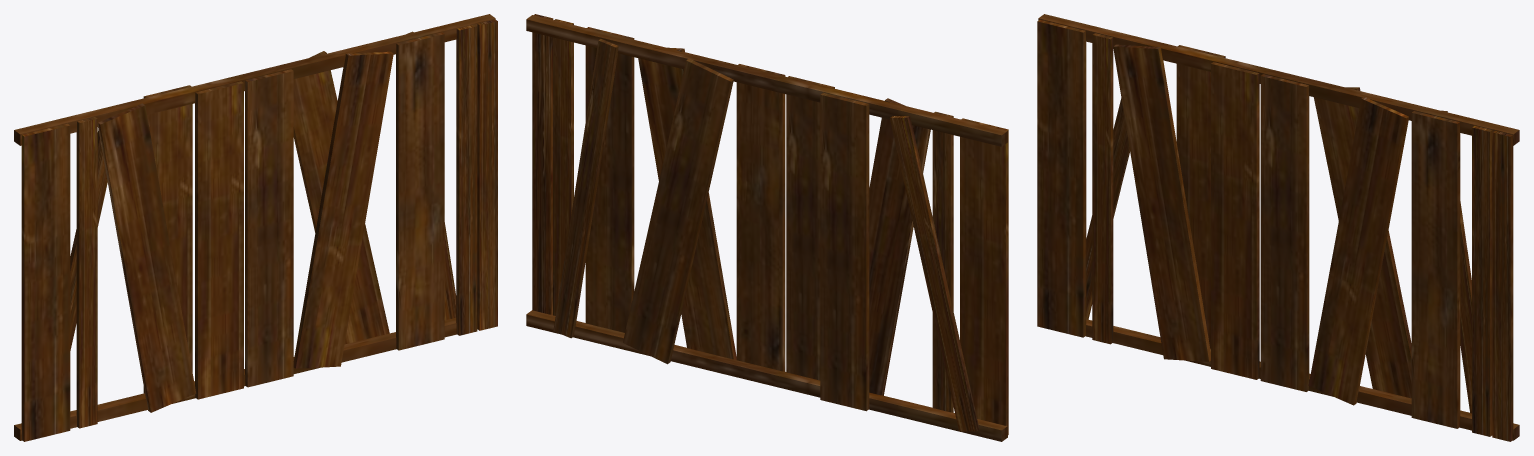
Rendered from shackWall3.fbx.
3 renders of one model, left to right at view 1: azimuth 30°, elevation 25°; view 2: azimuth 150°, elevation 25°; view 3: azimuth 330°, elevation 25°, orthographic.
Visible parts, largest first — view 1: ShackWall2; view 2: ShackWall2; view 3: ShackWall2.
Part boxes in pixels (<box>): ShackWall2: <box>14,14,497,441</box>; ShackWall2: <box>526,14,1008,441</box>; ShackWall2: <box>1037,14,1519,441</box>.
Bounding box in the file's own units: 408 × 253 × 17.02.
1 material, 1 textured.
